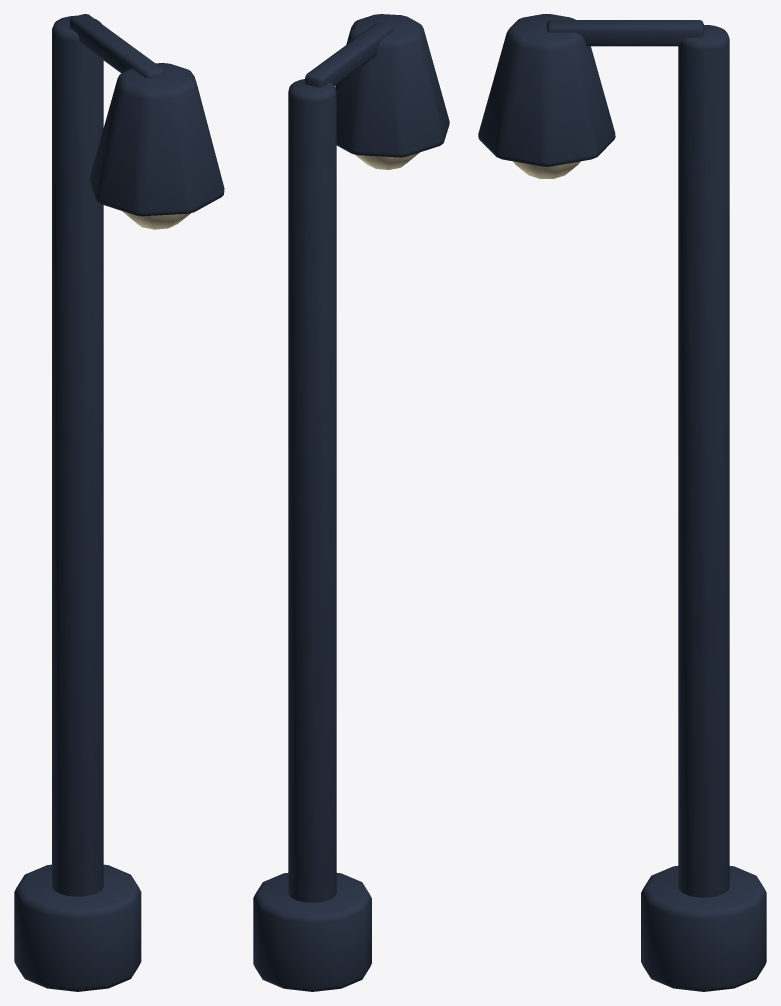
File: prop_lamp.glb
3 renders of one model, left to right at view 1: azimuth 30°, elevation 25°; view 2: azimuth 150°, elevation 25°; view 3: azimuth 270°, elevation 25°, orthographic. The views are drawn at different scales.
Visible parts, largest first — view 1: prop_lamp, Glass_prop_lamp; view 2: prop_lamp, Glass_prop_lamp; view 3: prop_lamp, Glass_prop_lamp.
Part boxes in pixels (left/top/right/bottom): prop_lamp: left=14, top=14, right=224, bottom=991; Glass_prop_lamp: left=122, top=211, right=190, bottom=229; prop_lamp: left=253, top=14, right=449, bottom=991; Glass_prop_lamp: left=355, top=152, right=419, bottom=169; prop_lamp: left=478, top=14, right=766, bottom=991; Glass_prop_lamp: left=513, top=161, right=580, bottom=178.
Size of the model in its own units: 0.6119 by 4.65 by 1.29.
